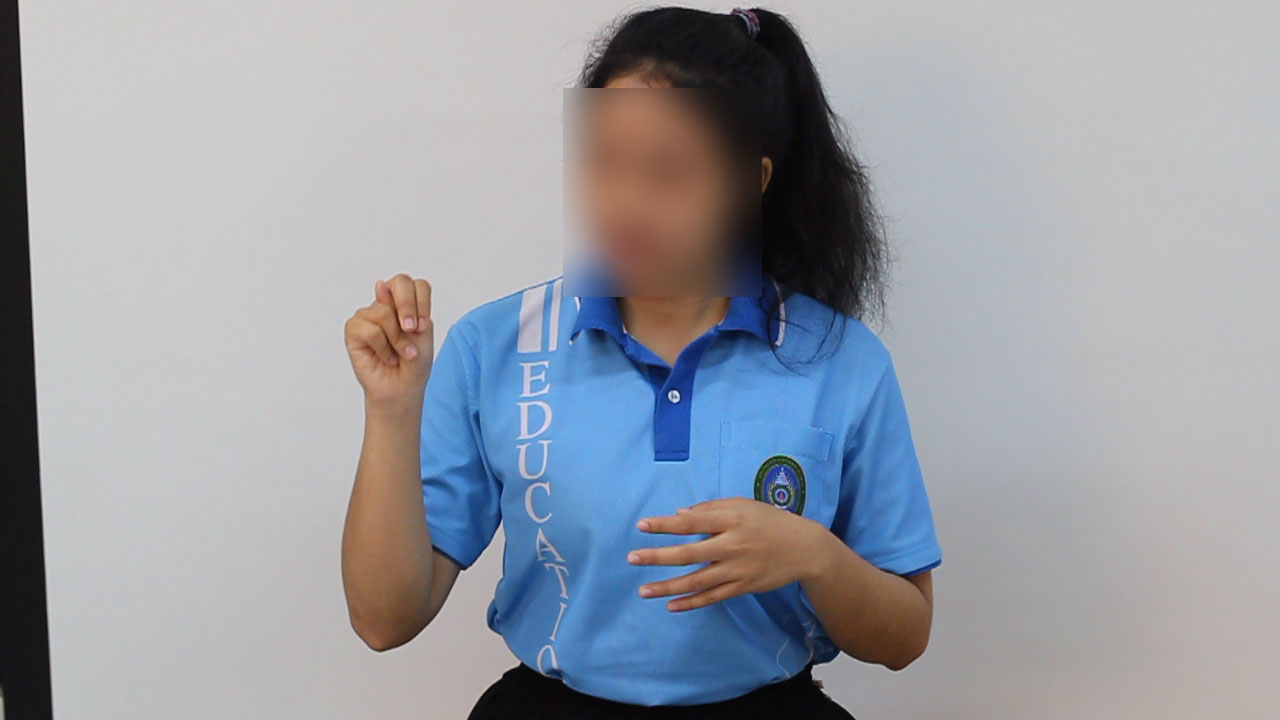nor: (338, 265, 445, 412)
